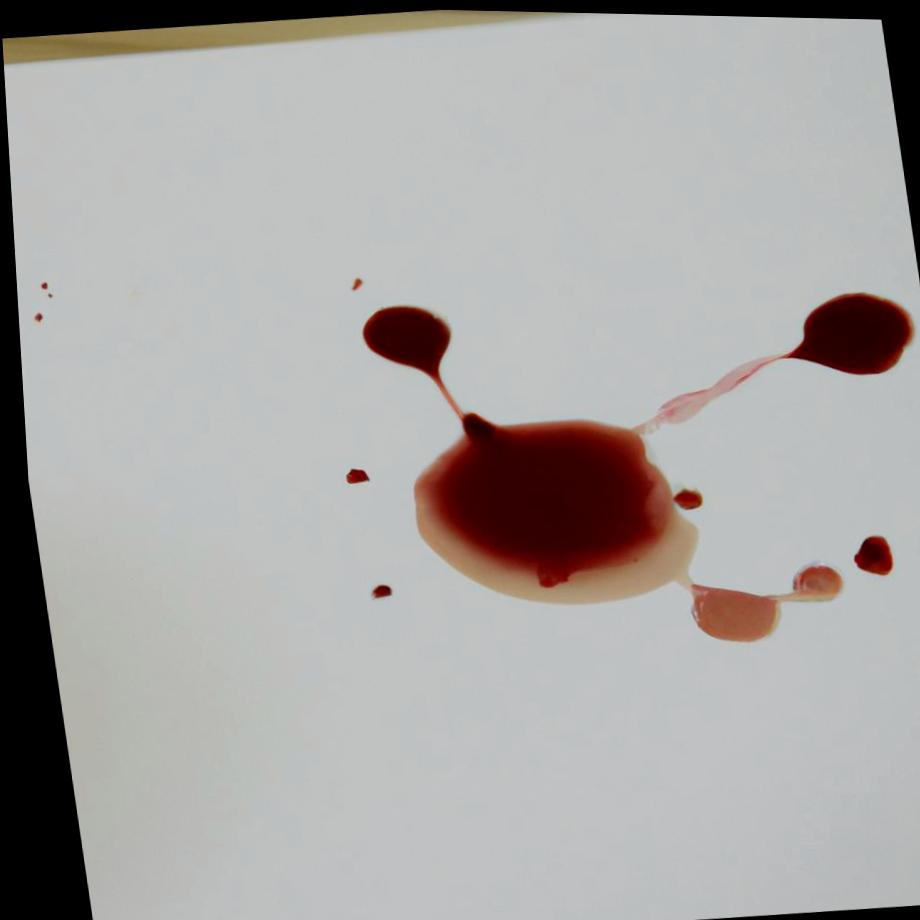Fire: (359, 288, 912, 638), (847, 531, 887, 571), (340, 466, 364, 483), (364, 582, 385, 596)
